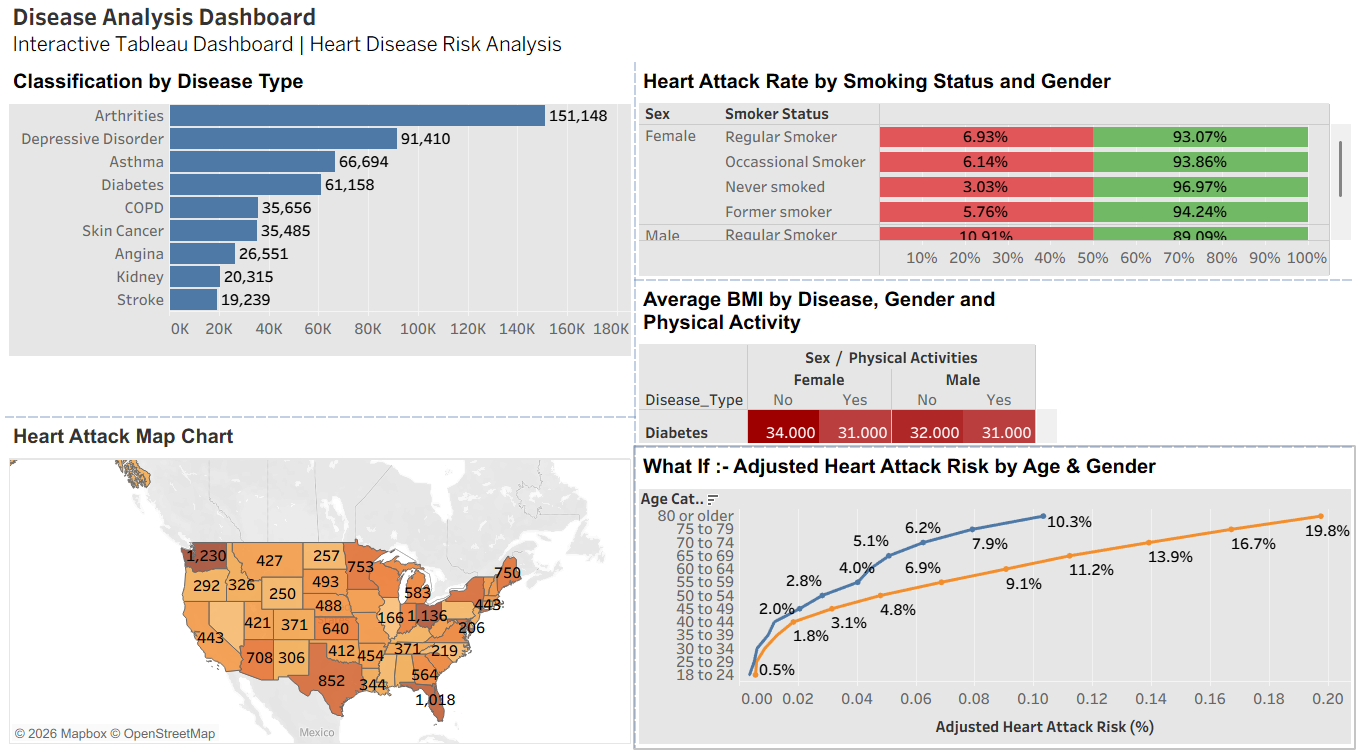

Layout of this report page (visuals, bound fields, positions):
{"tool":"tableau","page":{"name":"Heart Disease Analysis Dashboard","canvas":[1366,768],"ordinal":0},"visuals":[{"type":"title","box":[8,8,1350,40]},{"type":"worksheet","title":"Disease Distribution","mark":"Bar","box":[8,48,629.7,368.7]},{"type":"worksheet","title":"Smoking vs Heart Attack Risk","mark":"Bar","rows":["Sex","SmokerStatus"],"cols":["Calculation_0036339979137024"],"box":[637.7,48,720.3,226]},{"type":"worksheet","title":"BMI vs Disease","mark":"Square","rows":["Calculation_0036340348325902"],"cols":["Sex","PhysicalActivities"],"box":[637.7,274,720.3,174]},{"type":"worksheet","title":"Heart Attack Map","mark":"Multipolygon","box":[8,416.7,629.7,343.3]},{"type":"worksheet","title":"What-If Risk Analysis","mark":"Line","rows":["AgeCategory"],"cols":["Calculation_1802431299481617"],"box":[637.7,448,720.3,312]}]}

Visuals, with their boxes in screenshot pixels (x1, y1, x2, y2), scaled from the page's 1366x768 canvas onto the 1357x752 screenshot:
title: Rect(8, 8, 1349, 47)
"Disease Distribution" worksheet (Bar marks): Rect(8, 47, 633, 408)
"Smoking vs Heart Attack Risk" worksheet (Bar marks): Rect(633, 47, 1349, 268)
"BMI vs Disease" worksheet (Square marks): Rect(633, 268, 1349, 439)
"Heart Attack Map" worksheet (Multipolygon marks): Rect(8, 408, 633, 744)
"What-If Risk Analysis" worksheet (Line marks): Rect(633, 439, 1349, 744)
